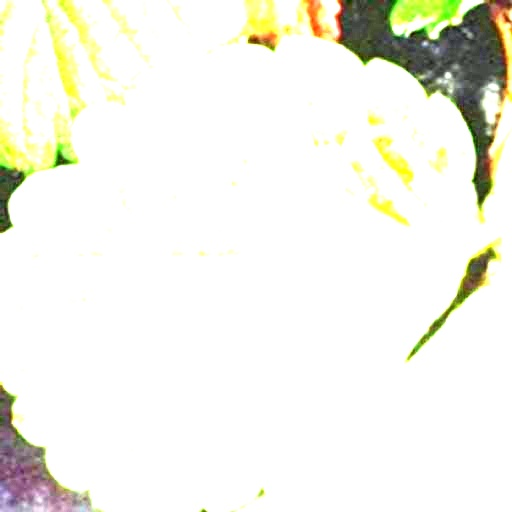Angular Leafspot: (0, 36, 487, 511)
